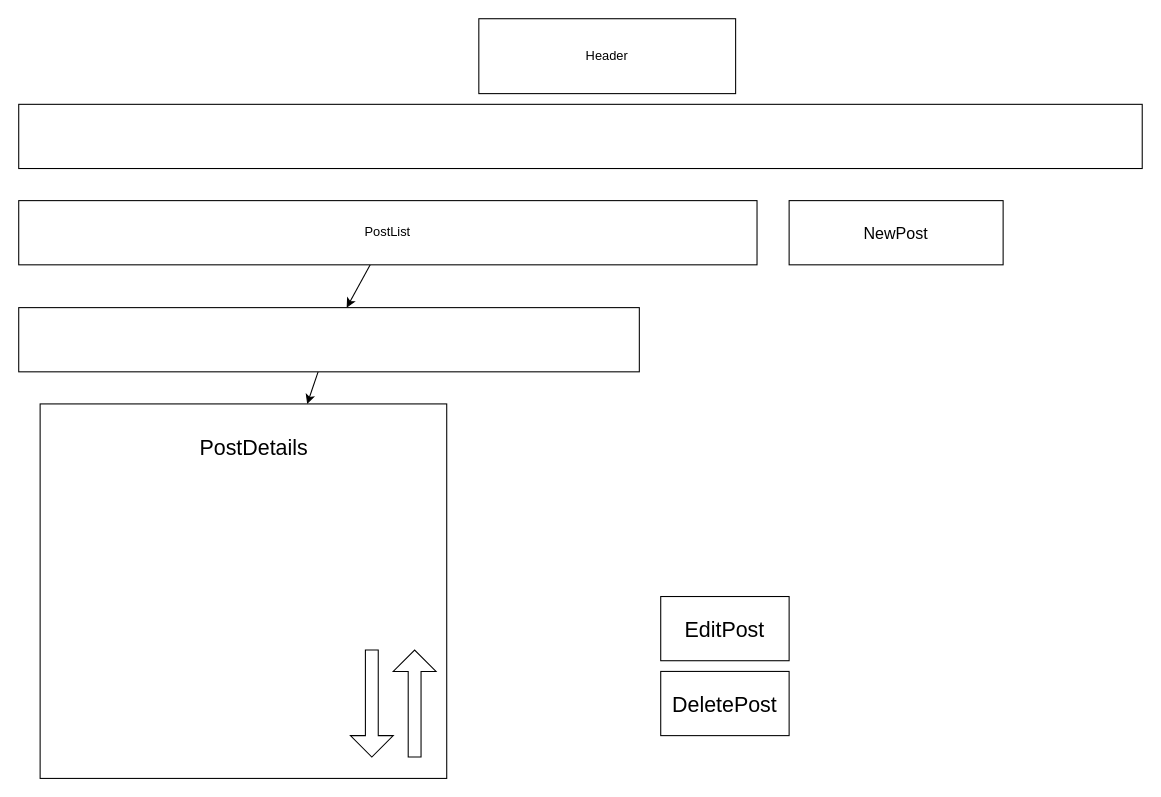
The diagram is 1161 pixels wide and 797 high, and some of its shapes have lost their labels. Here are the shapes that lost their labels. From the top down, the centre of each, then its label:
[580,136]: PostController
[328,339]: Post
